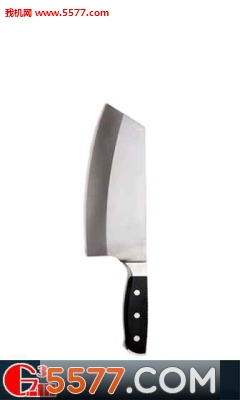knief: (76, 97, 154, 354)
